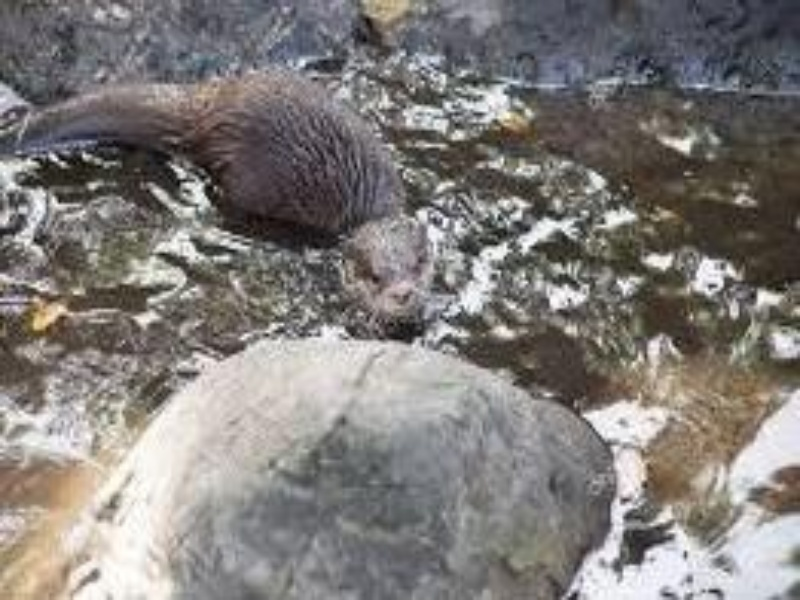minkish: (25, 71, 433, 319)
